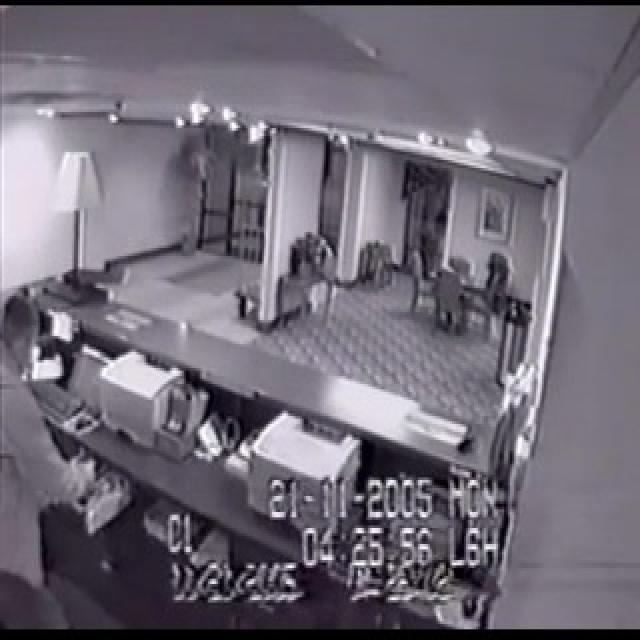thief: (0, 280, 112, 627)
